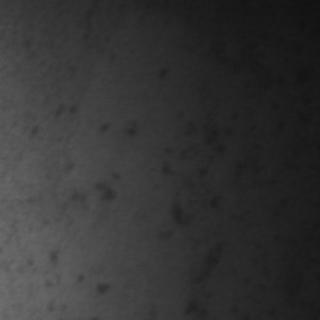pitted_surface: (21, 90, 121, 306), (160, 95, 233, 317)
